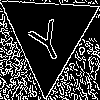Y: (23, 10, 69, 66)
